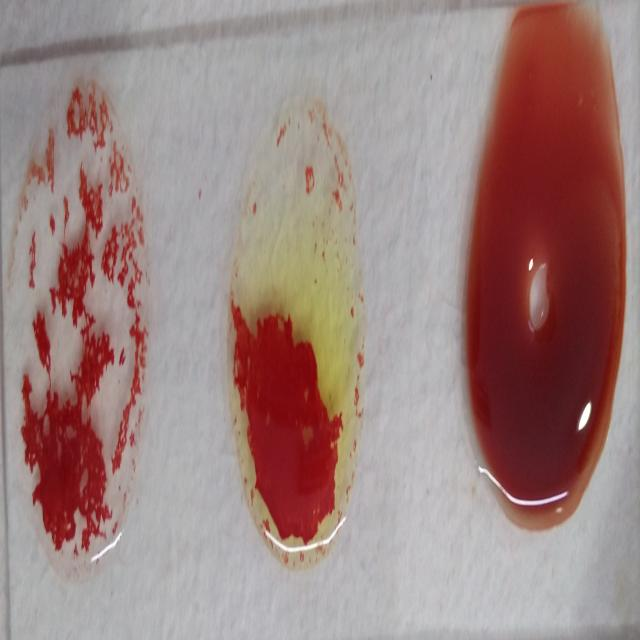B: (228, 104, 364, 564)
D: (9, 74, 148, 564)
